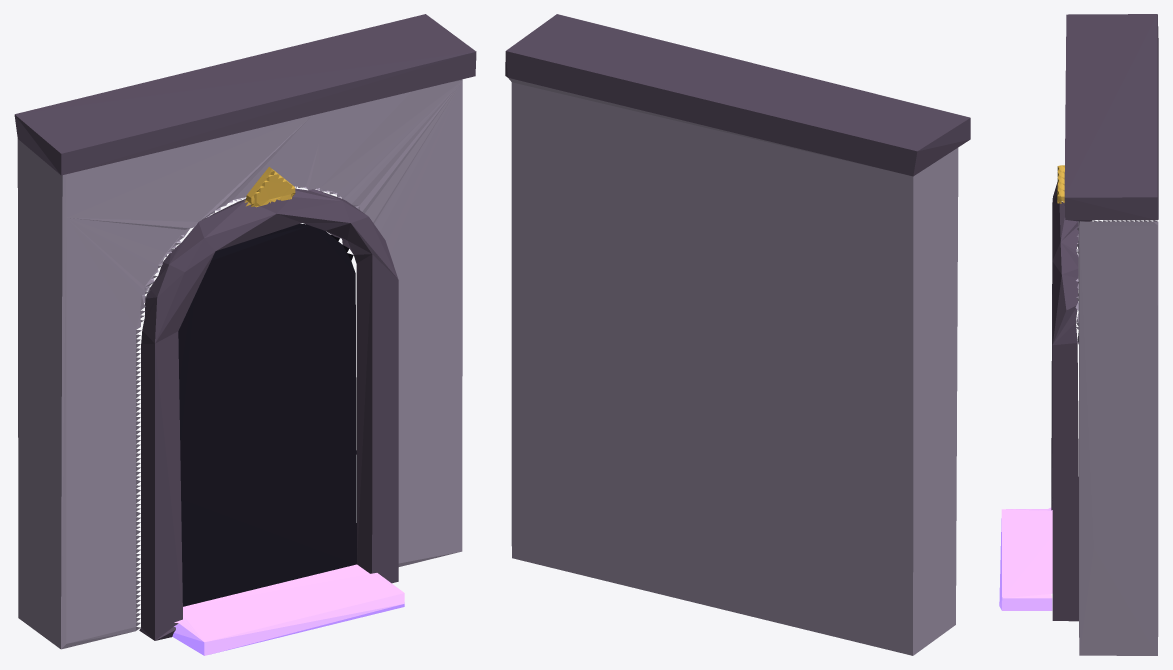
File: spawn_alcove.glb
The picture shows the model from 3 angles, left to right: view 1: azimuth 30°, elevation 25°; view 2: azimuth 150°, elevation 25°; view 3: azimuth 270°, elevation 25°; orthographic projection. The views are drawn at different scales.
Visible parts, largest first — view 1: spawn_alcove; view 2: spawn_alcove; view 3: spawn_alcove.
Boxes of the visible parts, <box> form: spawn_alcove: <box>14,14,476,655</box>; spawn_alcove: <box>505,14,970,655</box>; spawn_alcove: <box>999,14,1158,655</box>.
Size of the model in its own units: 3.31 by 3.85 by 1.2.
